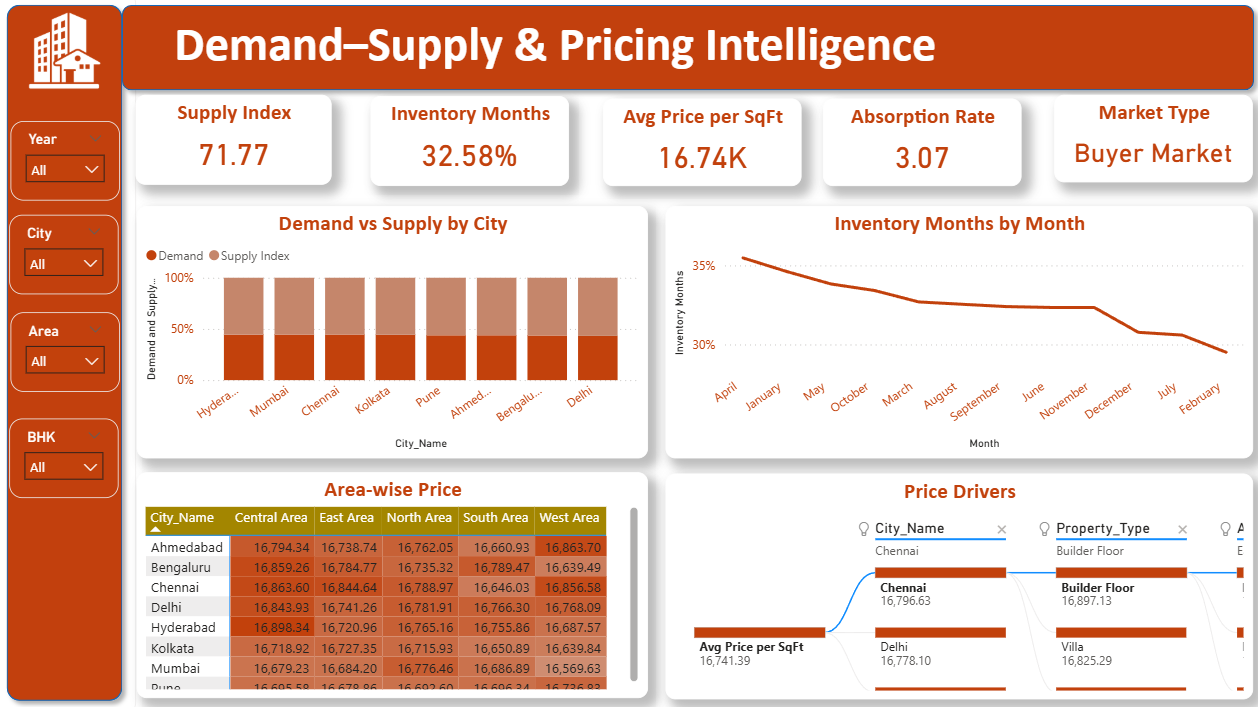

This screenshot's page, from the dashboard's own definition file:
{"tool":"powerbi","page":{"name":"Demand–Supply & Pricing Intelligence ","canvas":[1280,720],"ordinal":2},"visuals":[{"type":"group","id":"g1","title":"Group 2","box":[9.6,0,142.7,720.4],"z":0},{"type":"group","id":"g2","title":"Group 1","box":[9.6,0,142.7,720.4],"z":0,"group":"g1"},{"type":"shape","box":[9.6,0,142.7,720.4],"z":0,"group":"g2"},{"type":"shape","box":[129.1,4.9,1144.4,102.9],"z":0,"group":"g3"},{"type":"group","id":"g3","title":"Group 3","box":[129.1,4.9,1144.4,102.9],"z":1000},{"type":"textbox","box":[185.4,18.6,834.3,75.5],"z":1000,"group":"g3"},{"type":"slicer","fields":{"Values":["datedim.Year"]},"box":[27.4,129,108.4,79.6],"z":1000,"group":"g1"},{"type":"card","title":"Supply Index","fields":{"Values":["Measures_.Supply Index"]},"box":[151.8,103.2,195.3,89.6],"z":2000},{"type":"slicer","fields":{"Values":["city.City_Name"]},"box":[26.1,222.3,108.4,79.6],"z":2000,"group":"g1"},{"type":"card","title":"Inventory Months","fields":{"Values":["Measures_.Absorption Rate"]},"box":[385.6,104.5,197.8,89.6],"z":3000},{"type":"slicer","fields":{"Values":["property.BHK"]},"box":[26.1,425.4,108.4,79.6],"z":3000,"group":"g1"},{"type":"card","title":"Avg Price per SqFt","fields":{"Values":["Measures_.Avg Price per SqFt"]},"box":[617,107,197.8,87.1],"z":4000},{"type":"slicer","fields":{"Values":["area.Area_Name"]},"box":[27.4,319.7,108.4,79.6],"z":4000,"group":"g1"},{"type":"card","title":"Absorption Rate","fields":{"Values":["Measures_.Absorption Rate"]},"box":[835.9,107,197.8,87.1],"z":5000},{"type":"card","title":"Market Type","fields":{"Values":["Measures_.Market Type"]},"box":[1066.1,103.2,197.8,87.1],"z":6000},{"type":"hundredPercentStackedColumnChart","title":"Demand vs Supply by City","fields":{"Category":["city.City_Name"],"Y":["Measures_.Demand","Measures_.Supply Index"]},"box":[153,214,508.8,251.3],"z":7000},{"type":"image","box":[27.4,15.1,108.4,89.2],"z":7001,"group":"g2"},{"type":"pivotTable","title":"Area-wise Price","fields":{"Columns":["area.Area_Name"],"Rows":["city.City_Name"],"Values":["Measures_.Avg Price per SqFt"]},"box":[153,478.9,508.8,225.2],"z":8000},{"type":"lineChart","fields":{"Y":["Measures_.Inventory Months"],"Category":["datedim.Month"]},"box":[679.2,214,584.7,251.3],"z":9000},{"type":"decompositionTreeVisual","title":"Price Drivers","fields":{"Analyze":["Measures_.Avg Price per SqFt"],"ExplainBy":["city.City_Name","property.Property_Type","area.Area_Name","property.BHK"]},"box":[679.2,480.2,584.7,225.2],"z":10000}]}

Visuals, with their boxes in screenshot pixels (x1, y1, x2, y2), scaled from the page's 1280x720 canvas onto the 1258x707 screenshot:
"Group 2" group: box(9, 0, 150, 706)
"Group 1" group: box(9, 0, 150, 706)
shape: box(9, 0, 150, 706)
shape: box(127, 5, 1252, 106)
"Group 3" group: box(127, 5, 1252, 106)
textbox: box(182, 18, 1002, 92)
slicer - datedim.Year: box(27, 127, 133, 205)
"Supply Index" card: box(149, 101, 341, 189)
slicer - city.City_Name: box(26, 218, 132, 296)
"Inventory Months" card: box(379, 103, 573, 191)
slicer - property.BHK: box(26, 418, 132, 496)
"Avg Price per SqFt" card: box(606, 105, 801, 191)
slicer - area.Area_Name: box(27, 314, 133, 392)
"Absorption Rate" card: box(822, 105, 1016, 191)
"Market Type" card: box(1048, 101, 1242, 187)
"Demand vs Supply by City" hundredPercentStackedColumnChart: box(150, 210, 650, 457)
image: box(27, 15, 133, 102)
"Area-wise Price" pivotTable: box(150, 470, 650, 691)
lineChart - Measures_.Inventory Months x datedim.Month: box(668, 210, 1242, 457)
"Price Drivers" decompositionTreeVisual: box(668, 472, 1242, 693)
